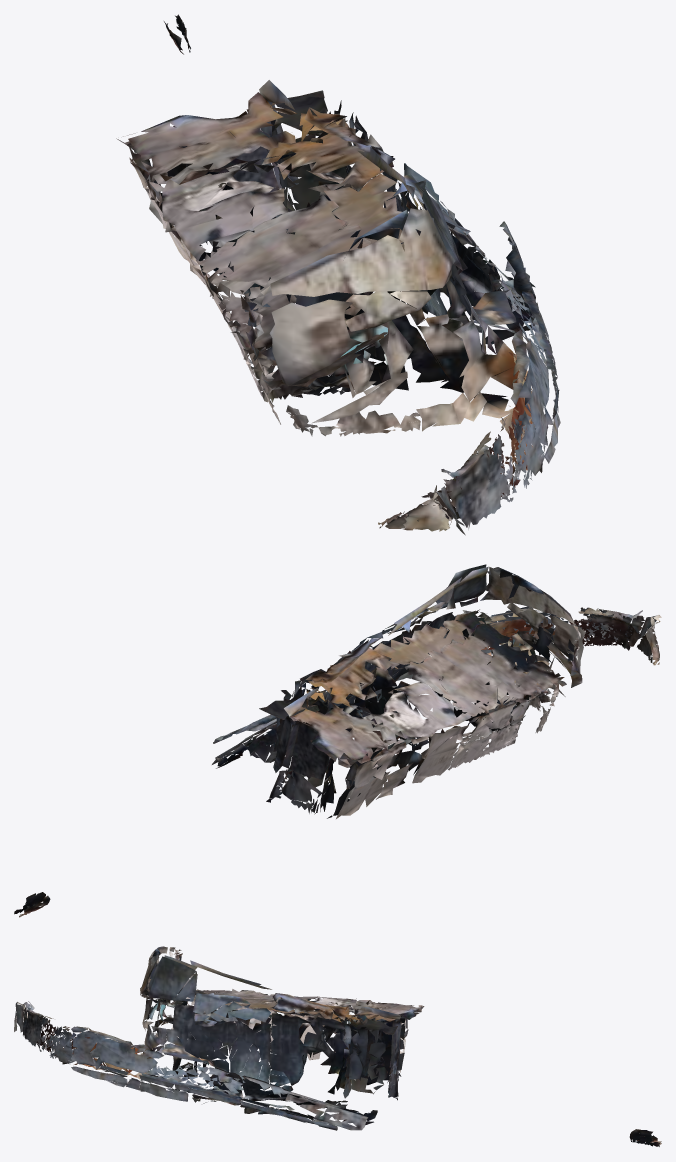
File: a26_wreck_a.glb
3 renders of one model, top to bottom at view 1: azimuth 30°, elevation 25°; view 2: azimuth 150°, elevation 25°; view 3: azimuth 270°, elevation 25°, orthographic. The views are drawn at different scales.
Visible parts, largest first — view 1: body; view 2: body; view 3: body.
Part boxes in pixels (x1=…): body: x1=116, y1=14, x2=560, y2=535; body: x1=14, y1=564, x2=661, y2=917; body: x1=14, y1=946, x2=661, y2=1146.
Bounding box in the file's own units: 0.3768 × 0.2199 × 1.
Materials: 1 (1 with a texture image).
